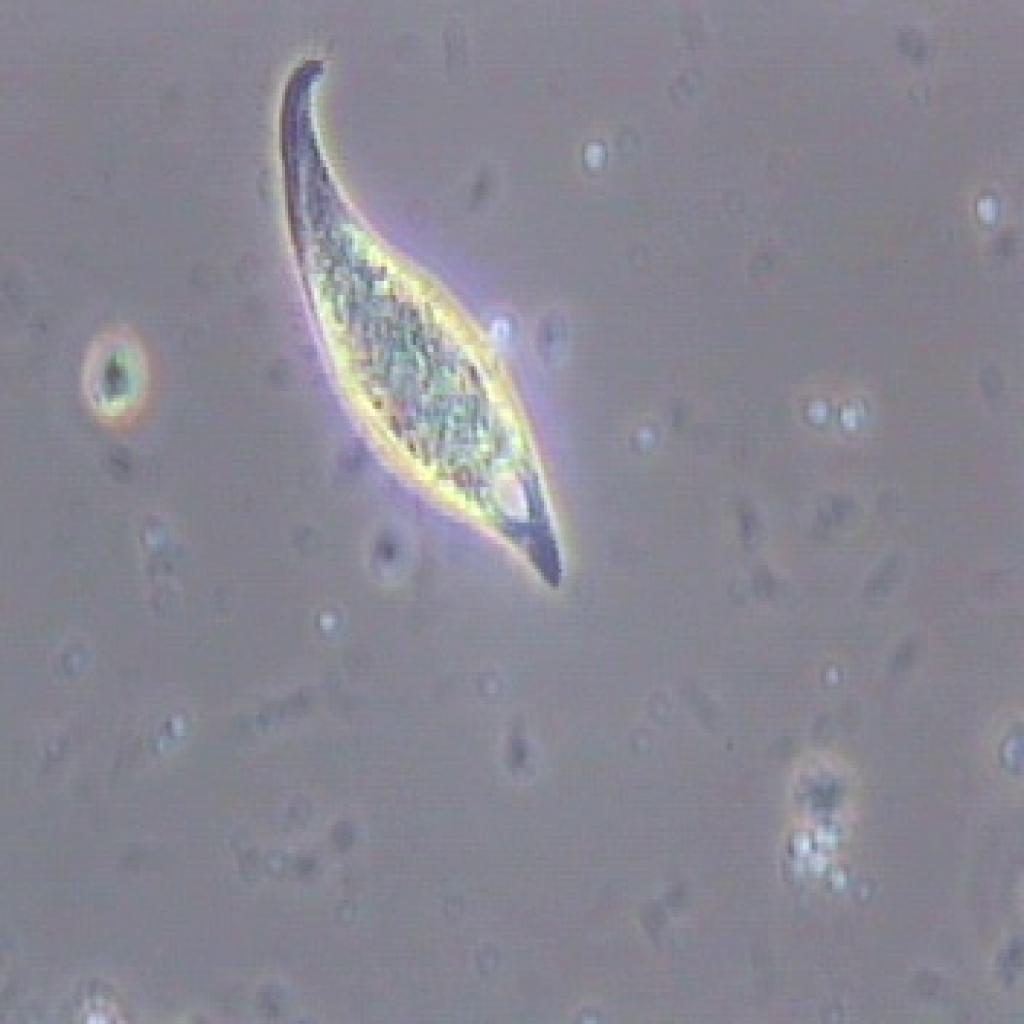Pristina: (226, 18, 616, 622)
